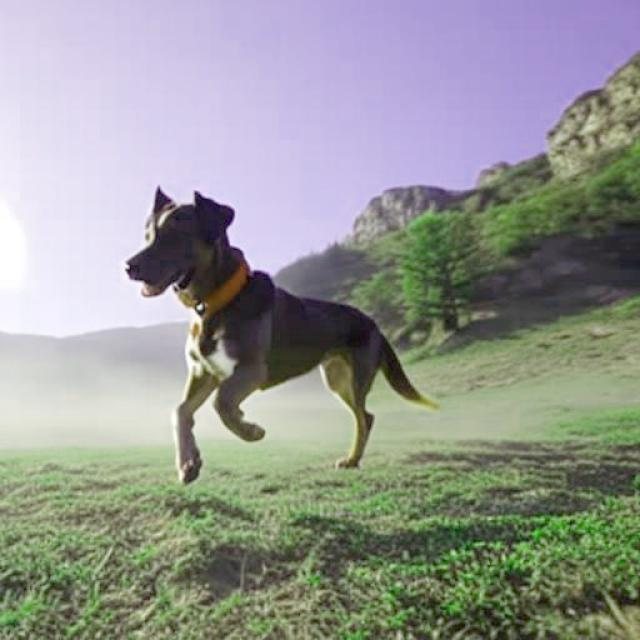Dog: (123, 185, 443, 487)
